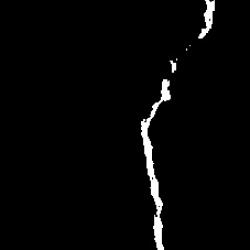crack: (141, 81, 170, 248), (200, 2, 215, 35), (171, 61, 174, 71)
